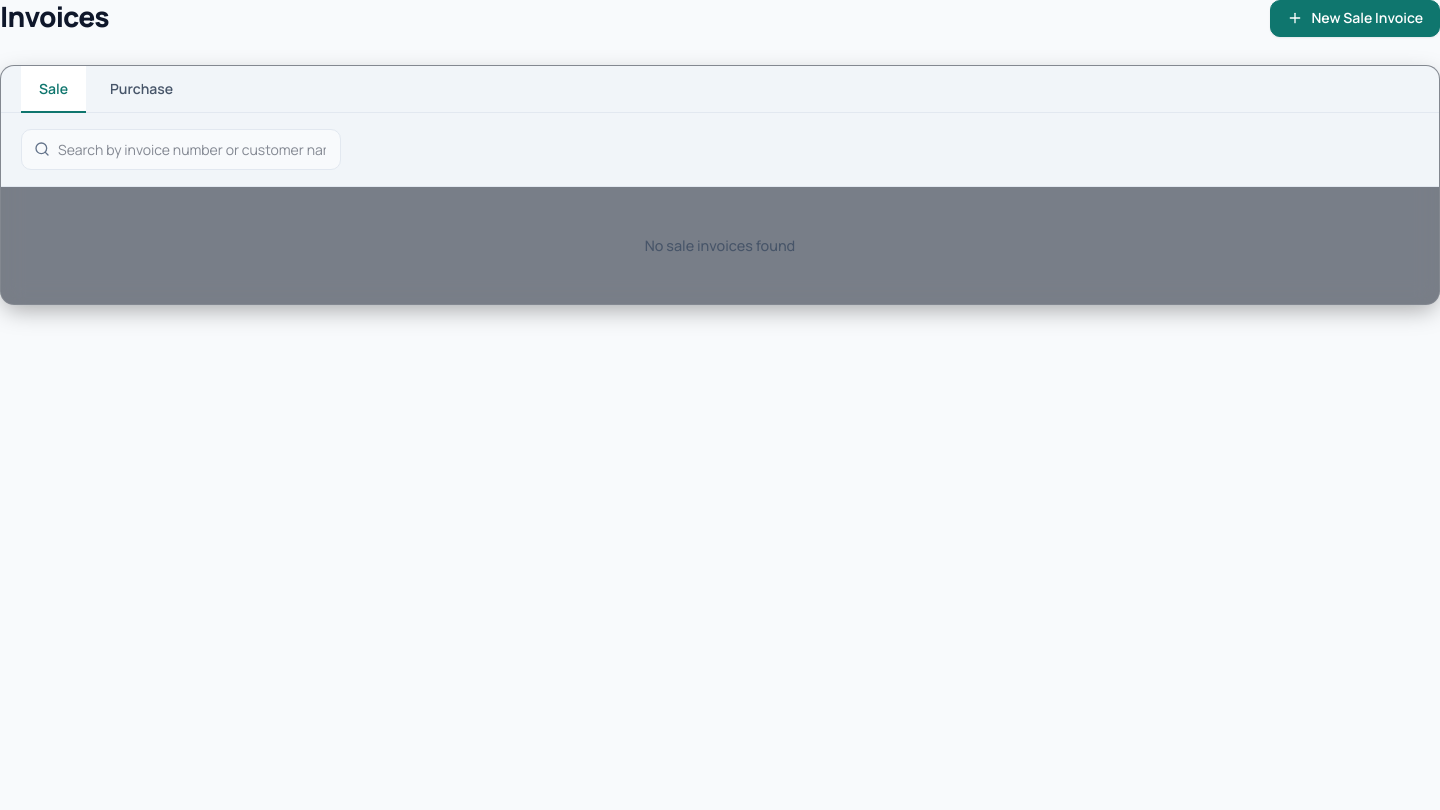
it: medicine picker › moves the highlight with the arrow keys
Click the button "New Sale Invoice". click: (1355, 18)
box: [1270,0,1439,37]
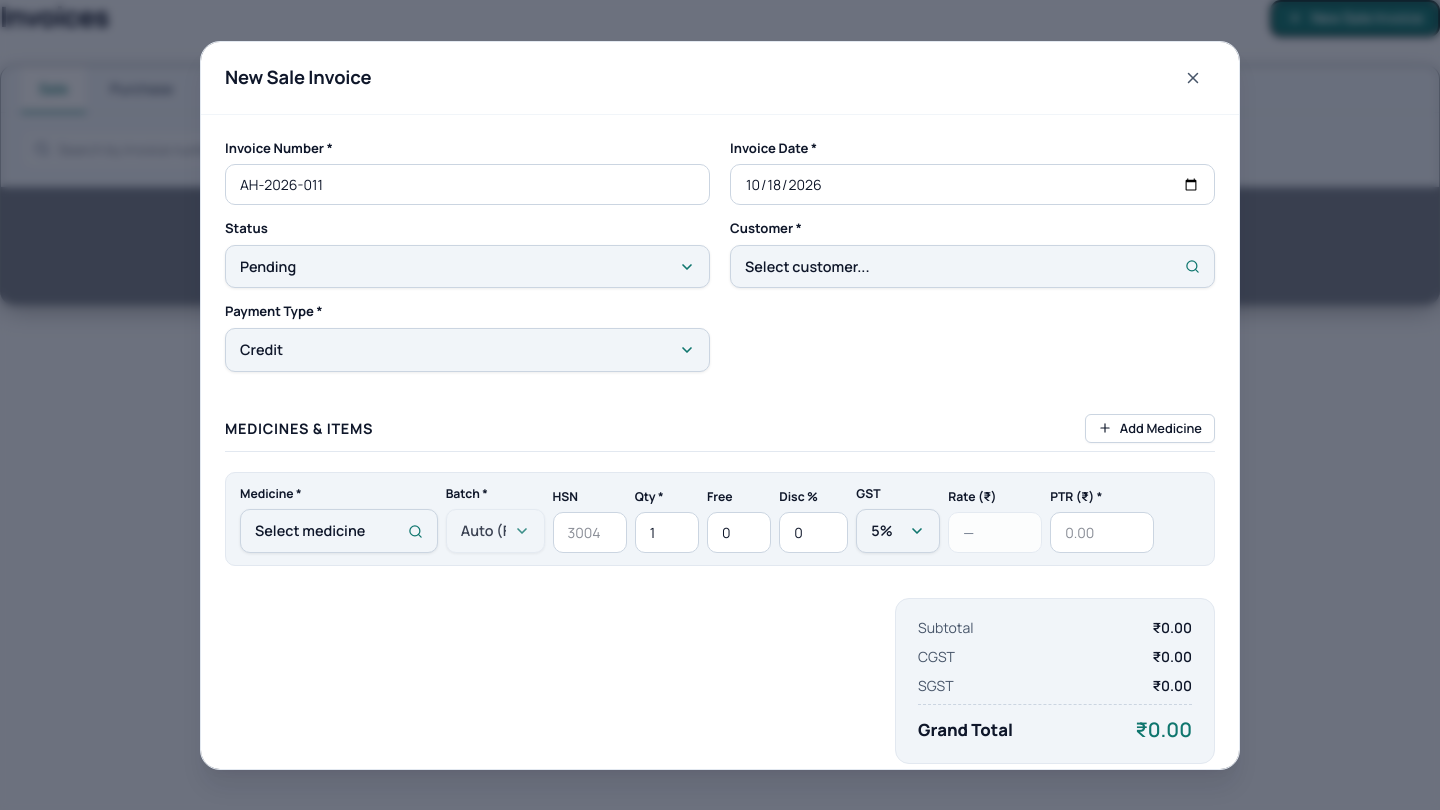
Expected: the heading "New Sale Invoice" is shown, [225,64,371,91]
Click the button with class "searchable-select-trigger" showing "Select medicine". click: (339, 531)
box: [240,509,438,553]
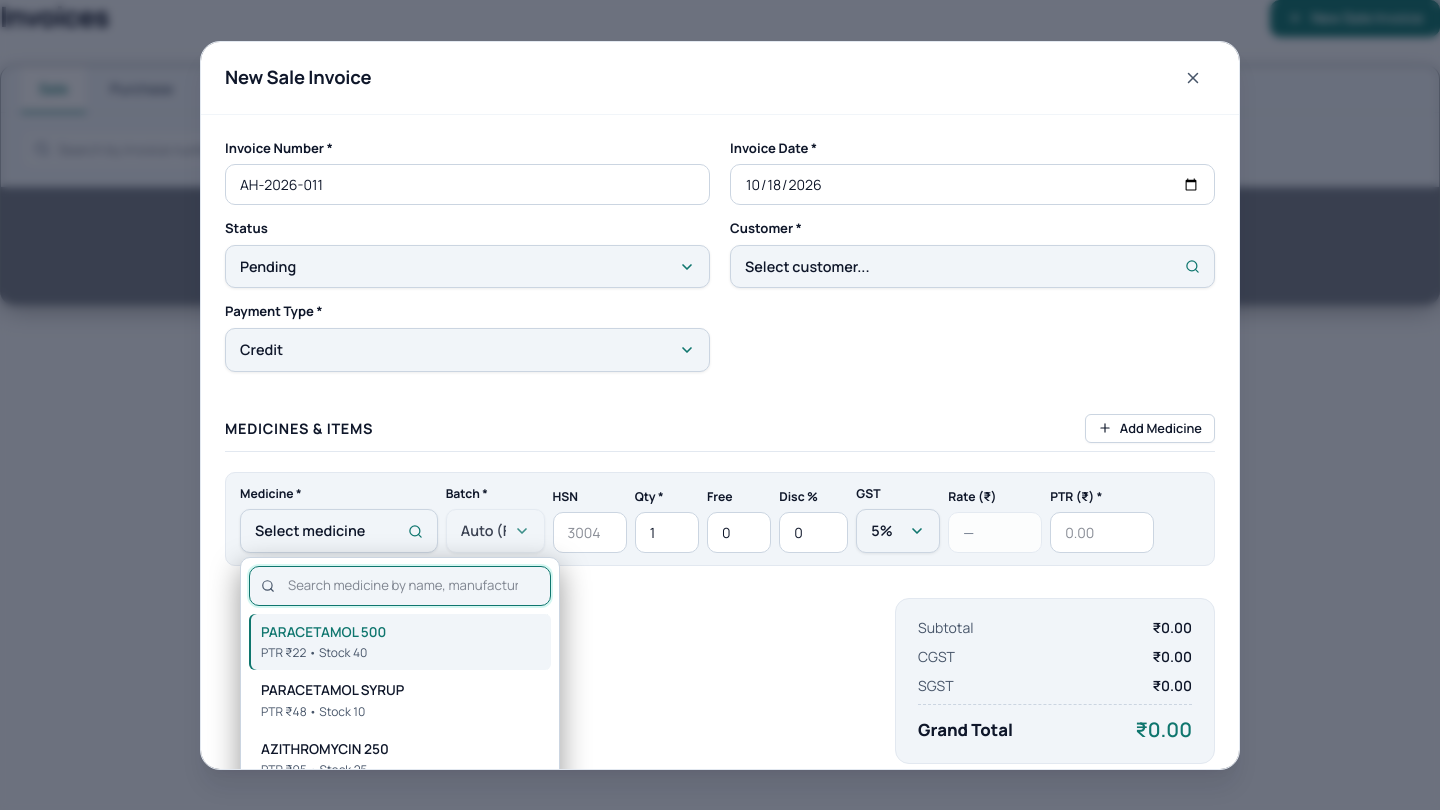
Type "paracetamol" into the field with placeholder "Search medicine by name, manufacturer, HSN...". click: (400, 586)
box: [249,566,551,606]
Then press Arrowdown, Enter
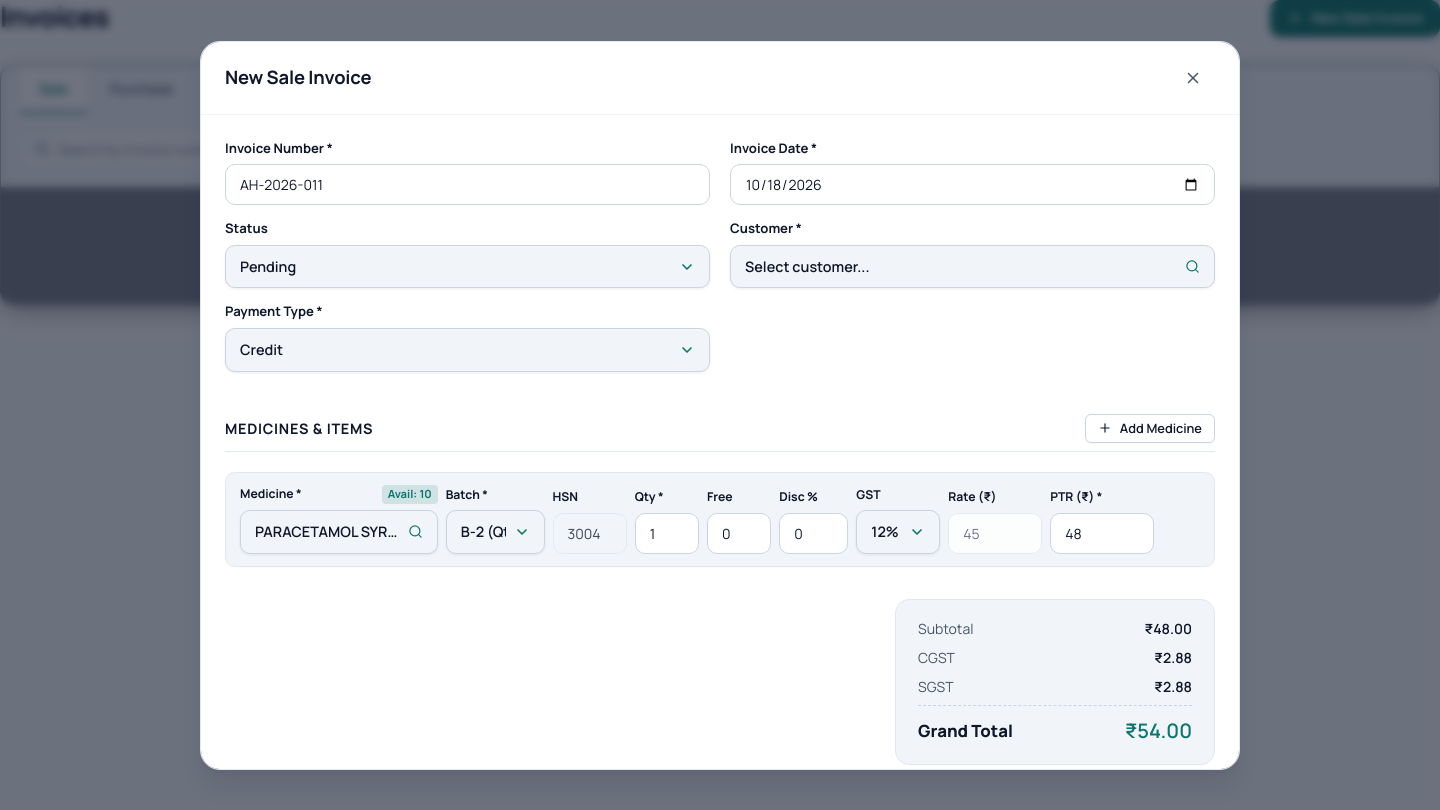
Expected: the button with class "searchable-select-trigger" reads "PARACETAMOL SYRUP", [240,510,438,554]
